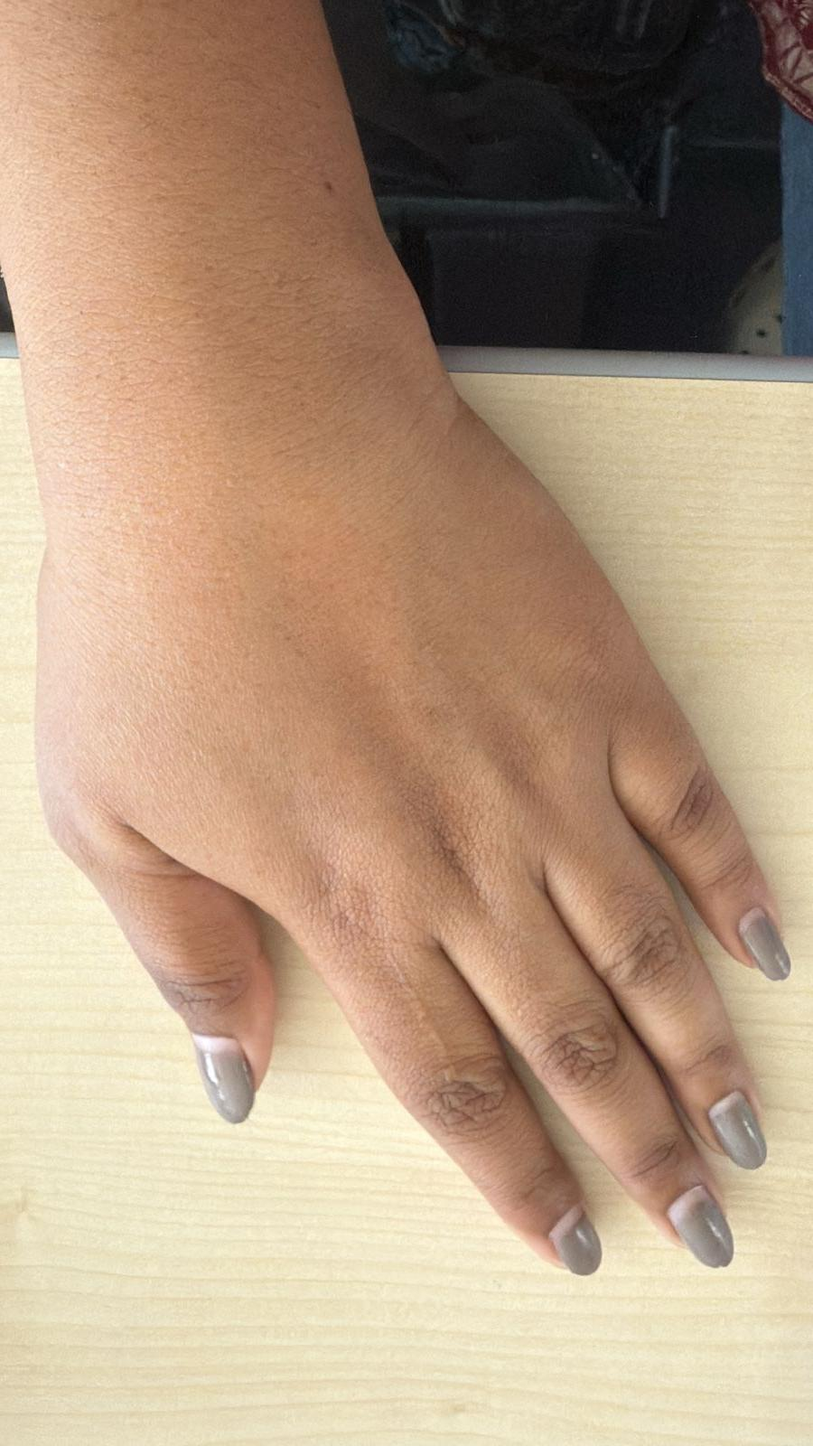Fingernail: (668, 1187, 733, 1267), (195, 1036, 253, 1124), (709, 1093, 766, 1169), (549, 1205, 603, 1274), (741, 910, 790, 980)
